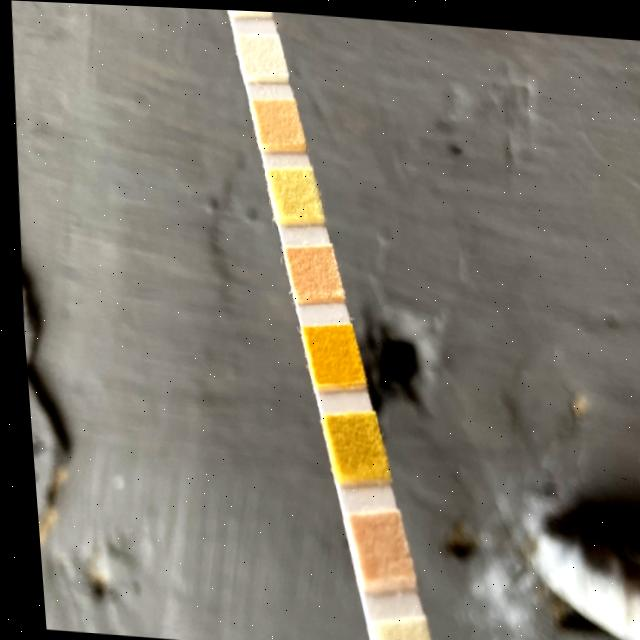Bilirubin: (368, 617, 421, 640)
Blood: (307, 324, 352, 382)
Ketone: (347, 508, 399, 583)
Leukocytes: (226, 8, 264, 13)
Nitrite: (239, 32, 282, 80)
Protein: (269, 165, 314, 223)
SpGravity: (326, 411, 374, 479)
Urobilinogen: (251, 98, 298, 149)
pH: (288, 243, 333, 301)
